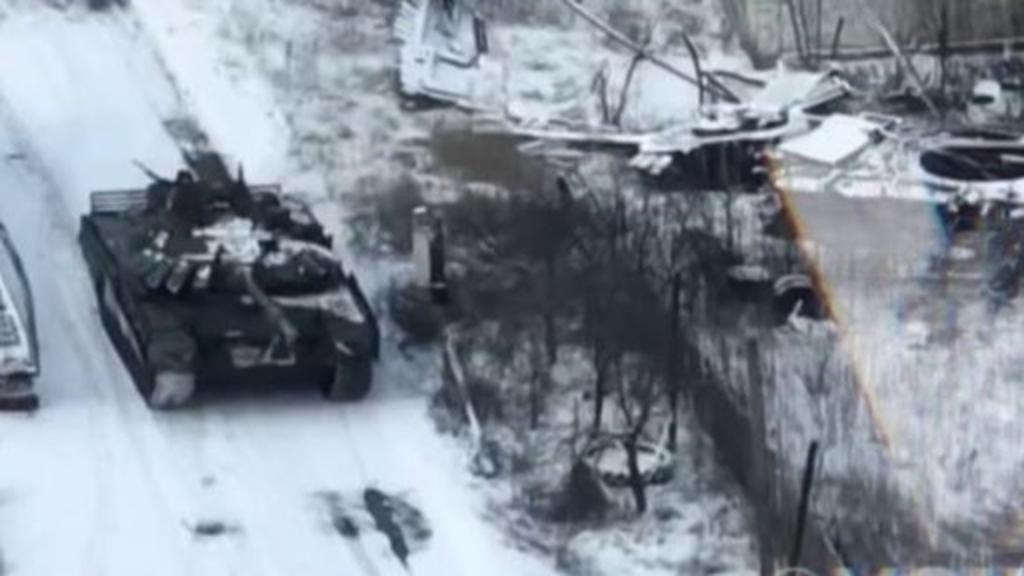TANK: (68, 150, 392, 416)
